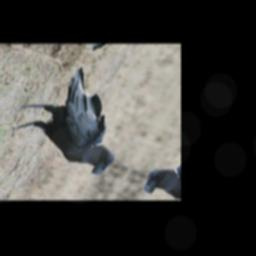Crow: (0, 57, 157, 179)
